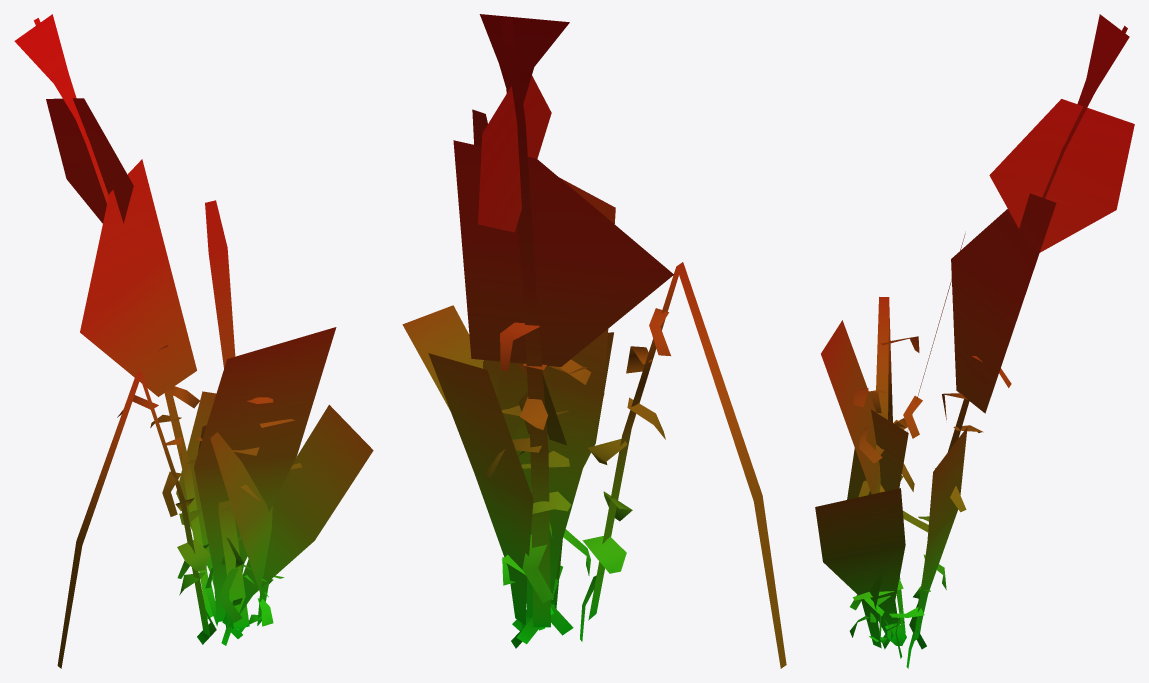
The model's file is Willowherb_LOD3_Var3_tbfpbbhr.fbx.
3 renders of one model, left to right at view 1: azimuth 30°, elevation 25°; view 2: azimuth 150°, elevation 25°; view 3: azimuth 270°, elevation 25°, orthographic. The views are drawn at different scales.
Parts seen in each view (by area): view 1: _2c13_Var3_LOD3; view 2: _2c13_Var3_LOD3; view 3: _2c13_Var3_LOD3.
Part boxes in pixels (bbox=[...]): _2c13_Var3_LOD3: bbox=[14, 14, 373, 668]; _2c13_Var3_LOD3: bbox=[402, 14, 786, 668]; _2c13_Var3_LOD3: bbox=[815, 14, 1134, 668].
Bounding box in the file's own units: 9.13 × 17.73 × 8.67.
